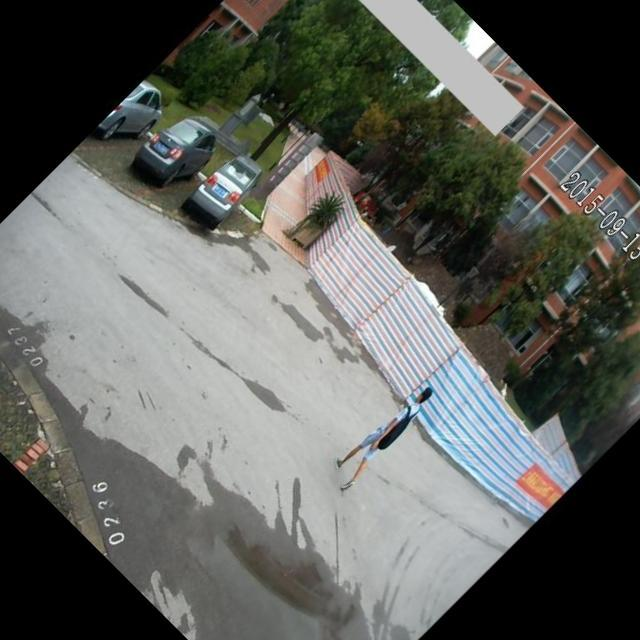person: (319, 374, 443, 498)
